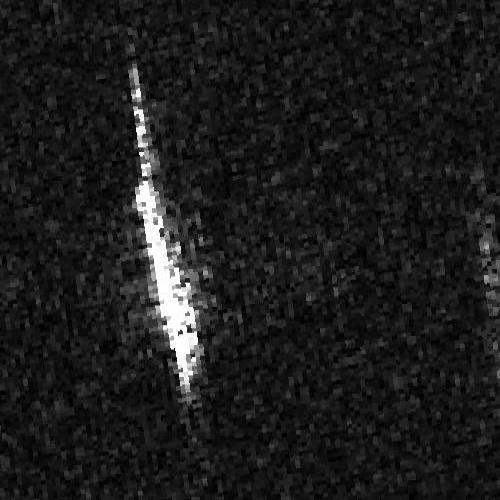ship: (133, 168, 200, 393)
